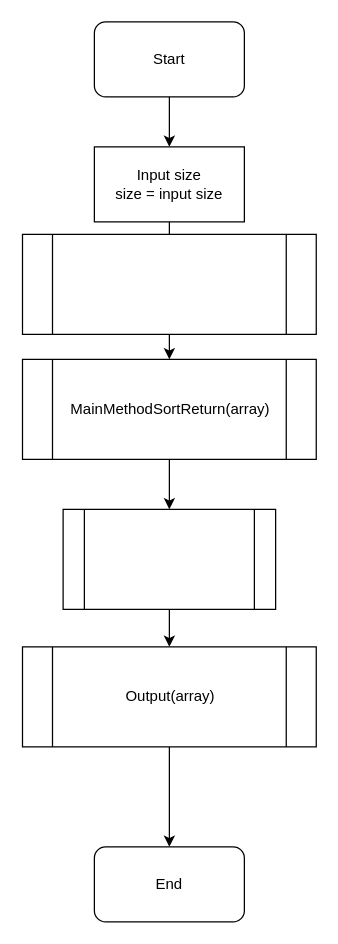
Image size: 338x944. Some labels were removed from this diagram. The centre of each missing label's shape, as x and y in pixels:
CreateStringArray(size): the point at 168,283
ShowArray(array): the point at 169,558
